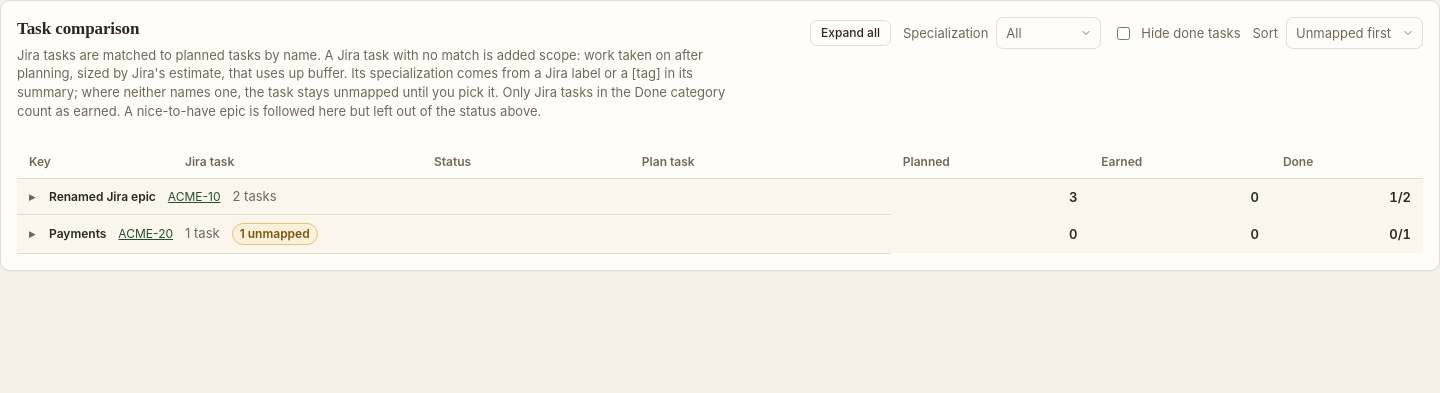
Test: TasksTable › greys out a done task with no estimate, and does not count it
Click the button "▸ Renamed Jira epic".
click(92, 197)  # box [29,188,156,206]
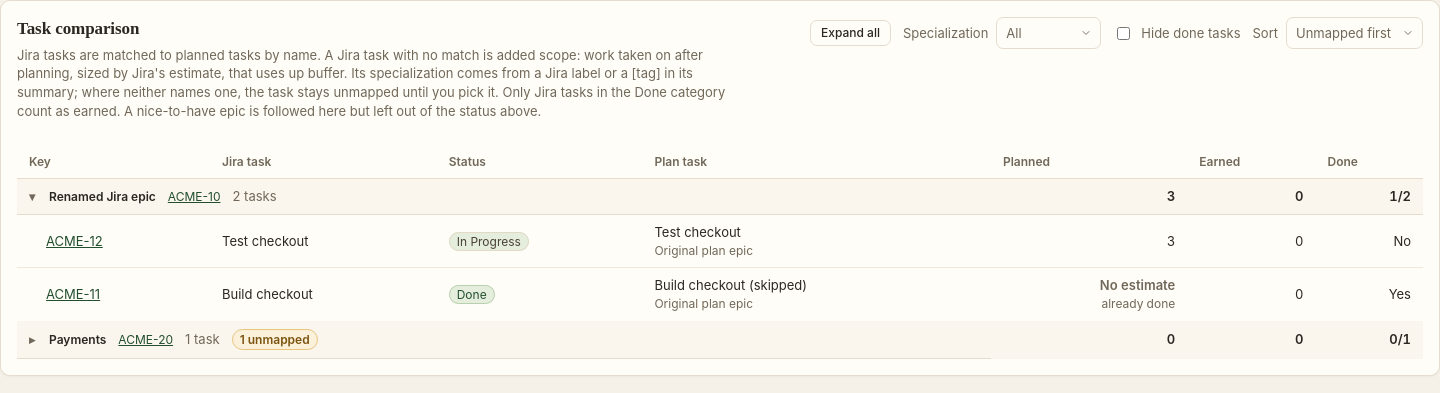
Expected: the text "already done" is shown, [1101,295,1175,313]
